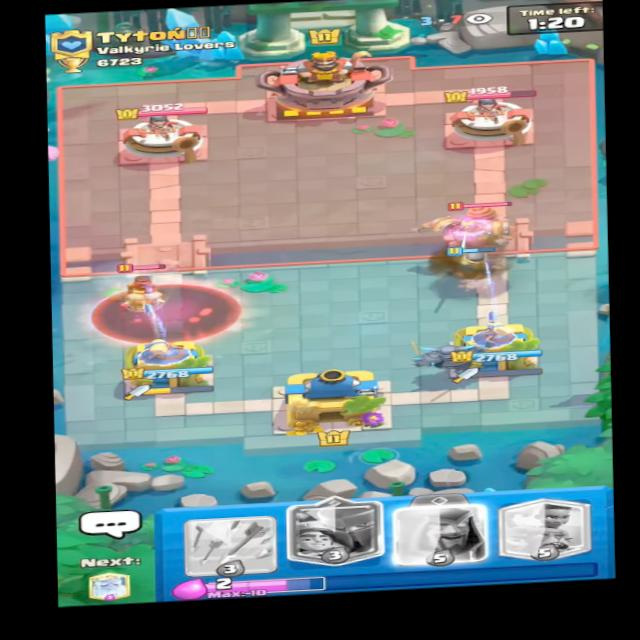goblin-machine: (419, 197, 511, 261)
ram-rider: (110, 260, 167, 316)
